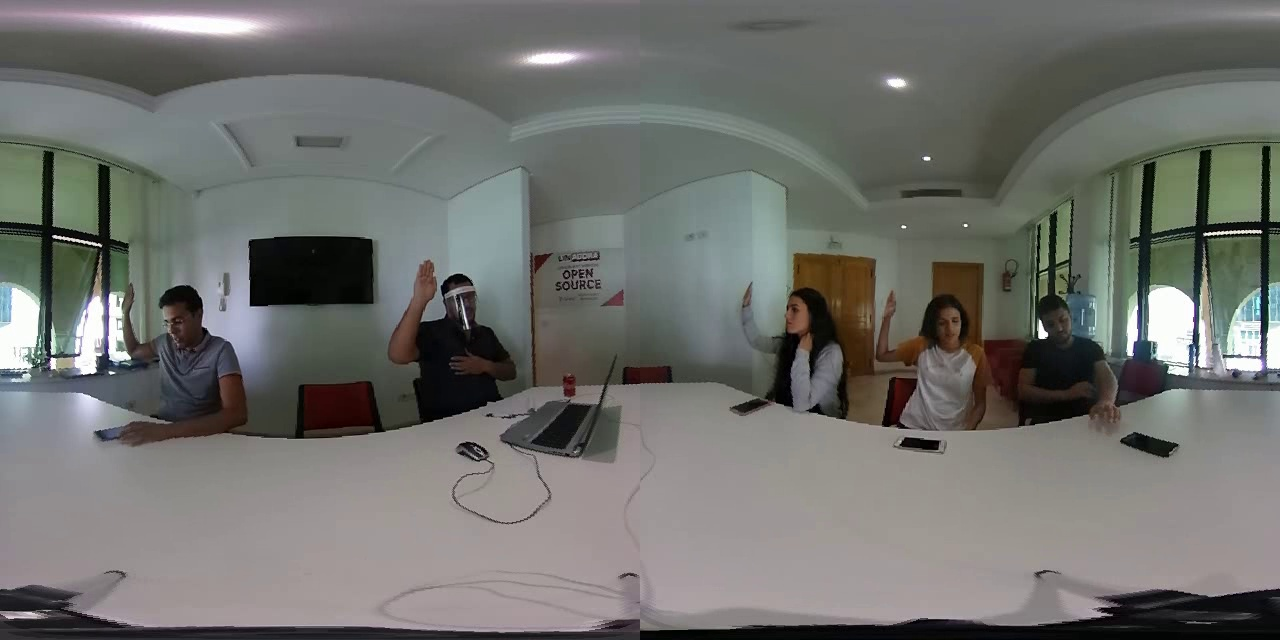person: (100, 274, 247, 441), (386, 249, 532, 416), (718, 278, 850, 421), (1004, 290, 1127, 440), (870, 276, 993, 425)
voting: (385, 259, 430, 373), (723, 278, 774, 357), (869, 290, 917, 372), (120, 272, 150, 371)
